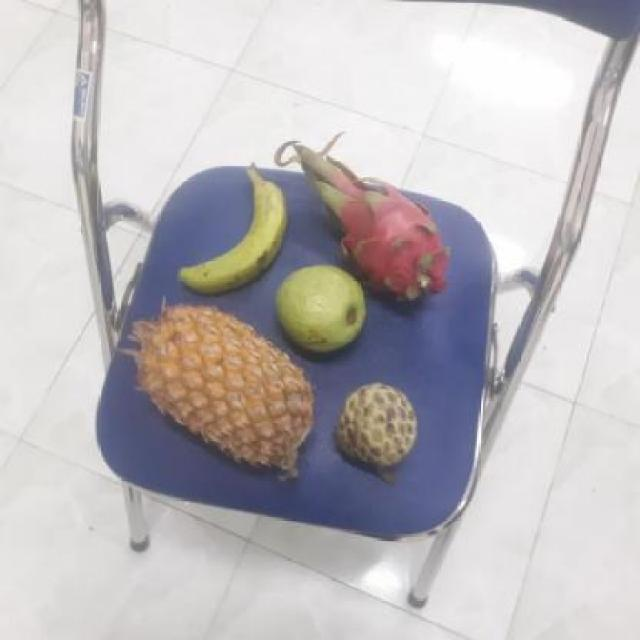banana: (172, 169, 286, 296)
dragon fruit: (307, 167, 445, 301)
guava: (270, 266, 368, 357)
pineapple: (131, 307, 314, 479)
sugar apple: (328, 383, 415, 471)
